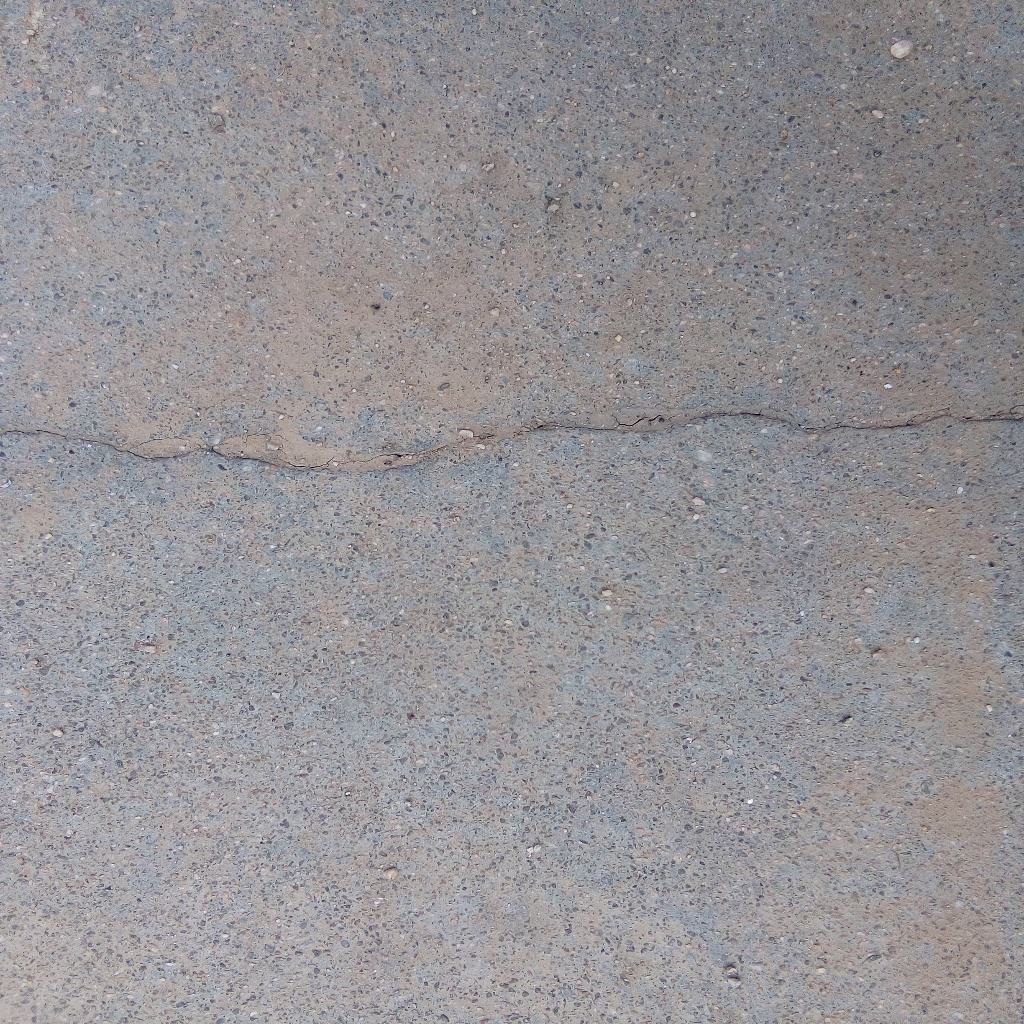Crack: (1, 403, 1024, 475)
